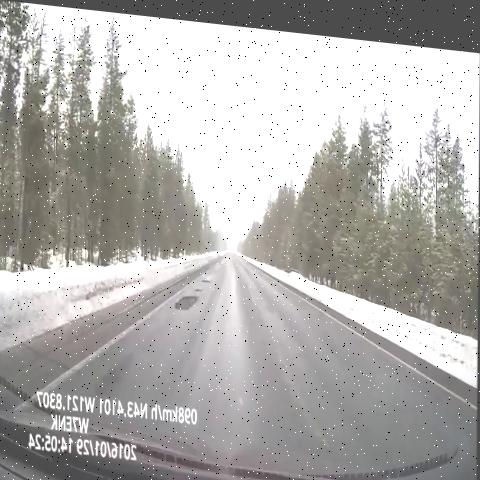pothole: (199, 268, 217, 288), (191, 278, 207, 293)
